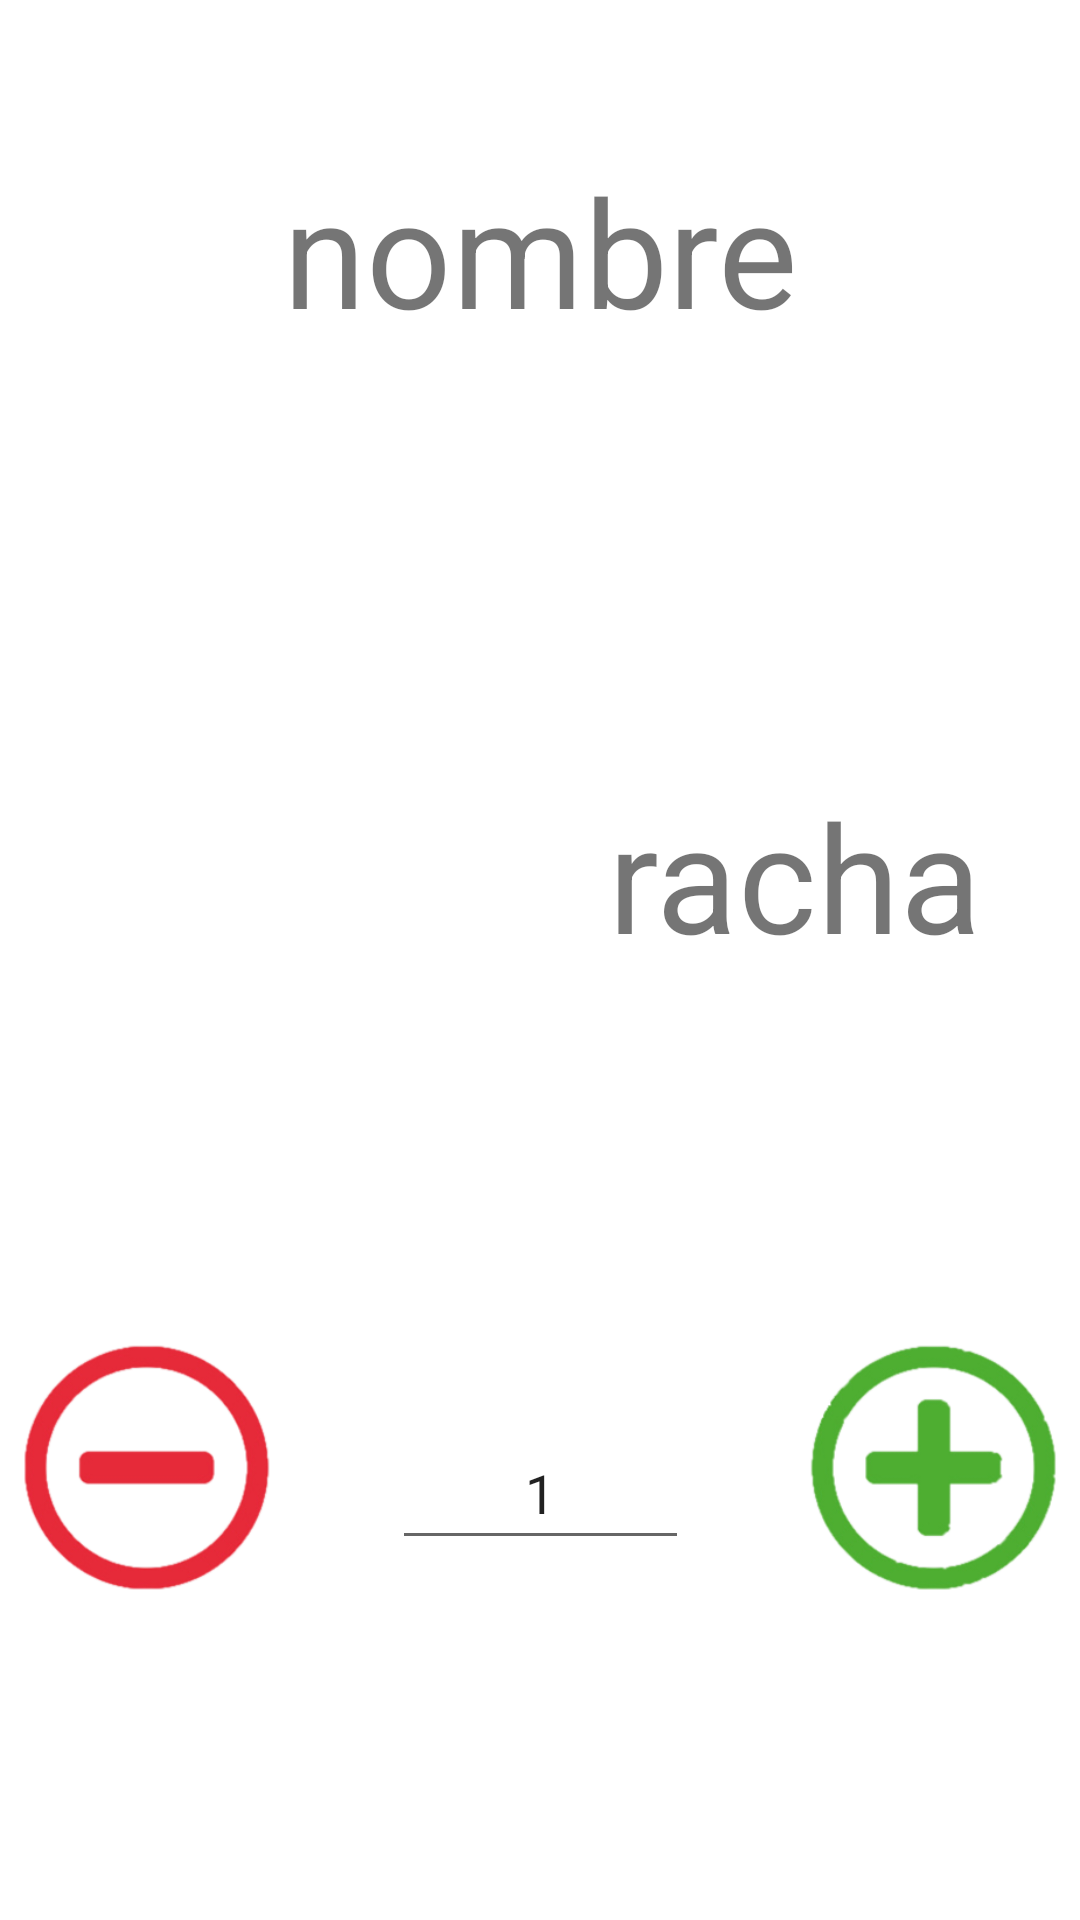

Locate icon controls on the screen. Image size 1080×1920, boxes as BBox(x1, y1, x2, y2).
resta: BBox(24, 1346, 269, 1590)
suma: BBox(811, 1346, 1056, 1590)
